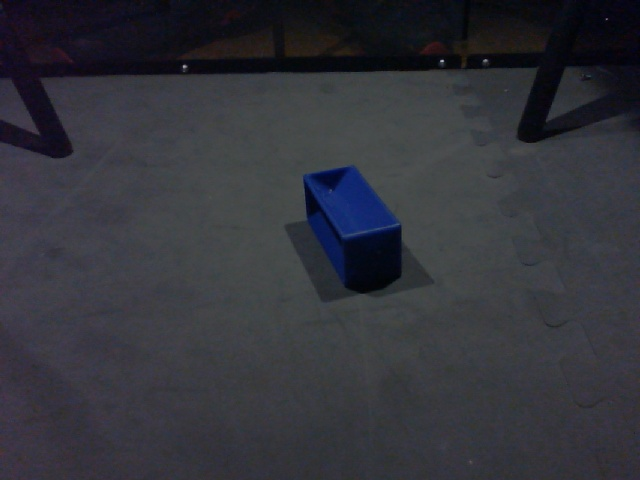BlueSample: (300, 163, 404, 291)
